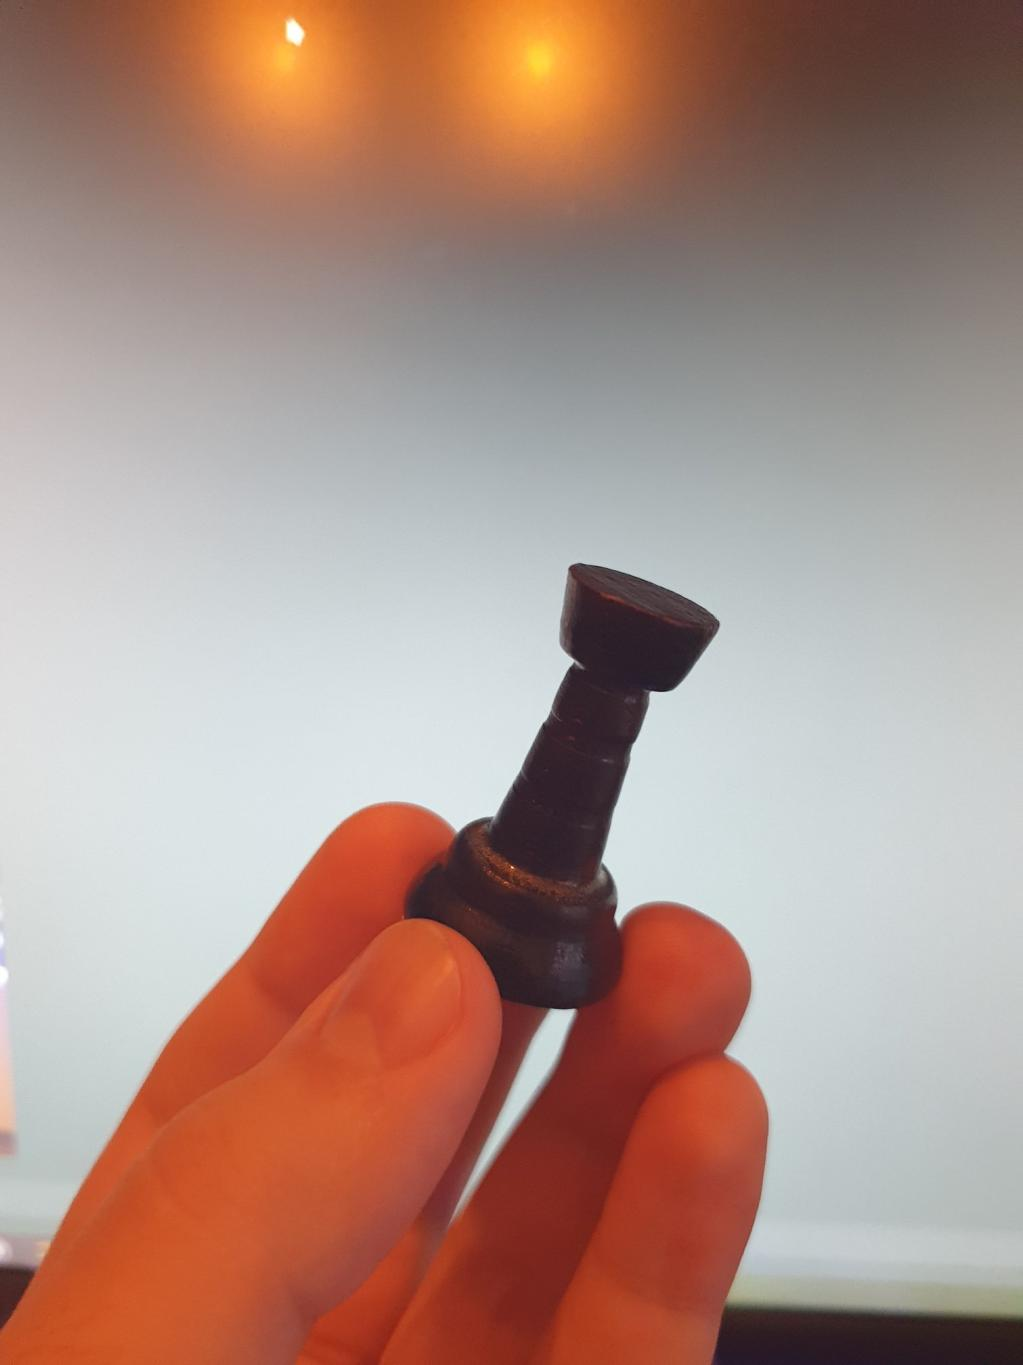brook: (404, 561, 722, 1012)
